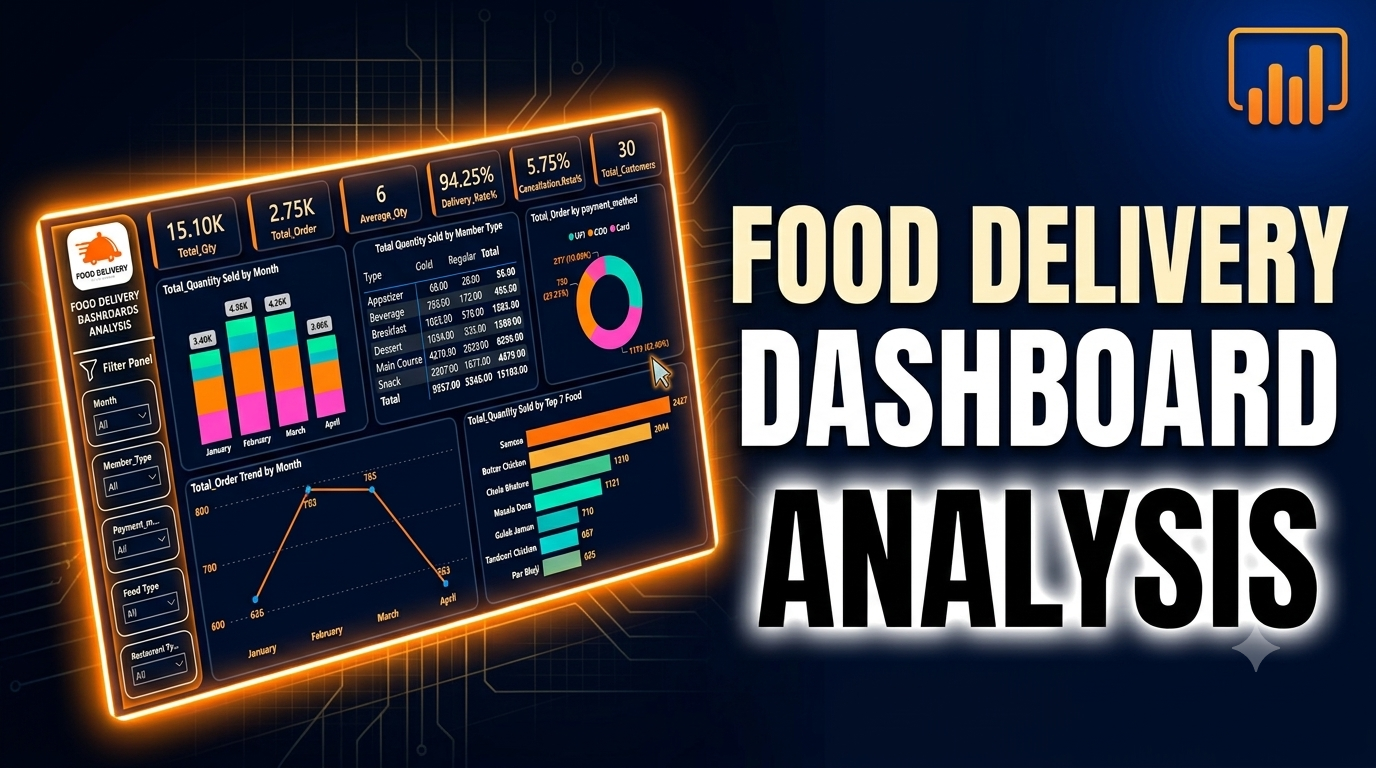

This screenshot's page, from the dashboard's own definition file:
{"tool":"powerbi","page":{"name":"FOOD_DELIVERY_DASHBOARD","canvas":[1280,720],"ordinal":0},"visuals":[{"type":"shape","box":[8.6,0,162.9,720],"z":0},{"type":"image","box":[40,18.6,104.3,88.6],"z":1000},{"type":"cardVisual","fields":{"Data":["Kpis.Total_Qty","Kpis.Total_Transaction","Kpis.Average_Qty","Kpis.Delivery_Rate%","Kpis.Cancellation_Rate","Kpis.Total_Customers"]},"box":[164.3,0,1115.7,107.1],"z":2000},{"type":"textbox","box":[18.6,117.1,141.4,70],"z":3000},{"type":"shape","box":[22.9,187.1,141.4,21.4],"z":4000},{"type":"clusteredColumnChart","title":"Total_Quantity Sold by Month","fields":{"Y":["Kpis.Total_Qty"],"Category":["Sales Data.orderDate.Variation.Date Hierarchy.Month"]},"box":[180,108.3,380,278.3],"z":5000},{"type":"pivotTable","title":"Total Quantity Sold by Member Type","fields":{"Values":["Kpis.Total_Qty"],"Columns":["Customer Details.member_Type"],"Rows":["Food_Details.Type"]},"box":[573.3,110,335,276.7],"z":6000},{"type":"donutChart","fields":{"Category":["Sales Data.payment_method"],"Y":["Kpis.Total_Order"]},"box":[920,110,345,276.7],"z":7000},{"type":"lineChart","title":"Total_Order Trend by Month","fields":{"Y":["Kpis.Total_Order"],"Category":["Sales Data.orderDate.Variation.Date Hierarchy.Month"]},"box":[180,397.1,542.9,310],"z":8000},{"type":"clusteredBarChart","title":"Total_Quantity Sold by Top 7 Food","fields":{"Category":["Food_Details.Food"],"Y":["Kpis.Total_Qty"]},"box":[740,397.1,525.7,310],"z":9000},{"type":"textbox","box":[64.5,209.1,95.7,34.3],"z":10000},{"type":"image","box":[24.5,209.1,40,31.4],"z":11000},{"type":"slicer","fields":{"Values":["Sales Data.orderDate.Variation.Date Hierarchy.Month"]},"box":[22.9,247.1,130,80],"z":12000},{"type":"slicer","fields":{"Values":["Customer Details.member_Type"]},"box":[24.3,338.6,130,80],"z":13000},{"type":"slicer","fields":{"Values":["Sales Data.payment_method"]},"box":[24.3,430,130,80],"z":14000},{"type":"slicer","fields":{"Values":["Food_Details.Type"]},"box":[25.7,522.9,130,80],"z":15000},{"type":"slicer","fields":{"Values":["Resturant_Details.Resturant_type"]},"box":[22.9,617.1,130,80],"z":16000}]}

Visuals, with their boxes in screenshot pixels (x1, y1, x2, y2), scaled from the page's 1280x720 canvas onto the 1376x768 screenshot:
shape: x1=9, y1=0, x2=184, y2=767
image: x1=43, y1=20, x2=155, y2=114
cardVisual - Kpis.Total_Qty x Kpis.Total_Transaction: x1=177, y1=0, x2=1375, y2=114
textbox: x1=20, y1=125, x2=172, y2=200
shape: x1=25, y1=200, x2=177, y2=222
"Total_Quantity Sold by Month" clusteredColumnChart: x1=194, y1=116, x2=602, y2=412
"Total Quantity Sold by Member Type" pivotTable: x1=616, y1=117, x2=976, y2=412
donutChart - Sales Data.payment_method x Kpis.Total_Order: x1=989, y1=117, x2=1360, y2=412
"Total_Order Trend by Month" lineChart: x1=194, y1=424, x2=777, y2=754
"Total_Quantity Sold by Top 7 Food" clusteredBarChart: x1=796, y1=424, x2=1361, y2=754
textbox: x1=69, y1=223, x2=172, y2=260
image: x1=26, y1=223, x2=69, y2=257
slicer - Sales Data.orderDate.Variation.Date Hierarchy.Month: x1=25, y1=264, x2=164, y2=349
slicer - Customer Details.member_Type: x1=26, y1=361, x2=166, y2=447
slicer - Sales Data.payment_method: x1=26, y1=459, x2=166, y2=544
slicer - Food_Details.Type: x1=28, y1=558, x2=167, y2=643
slicer - Resturant_Details.Resturant_type: x1=25, y1=658, x2=164, y2=744
